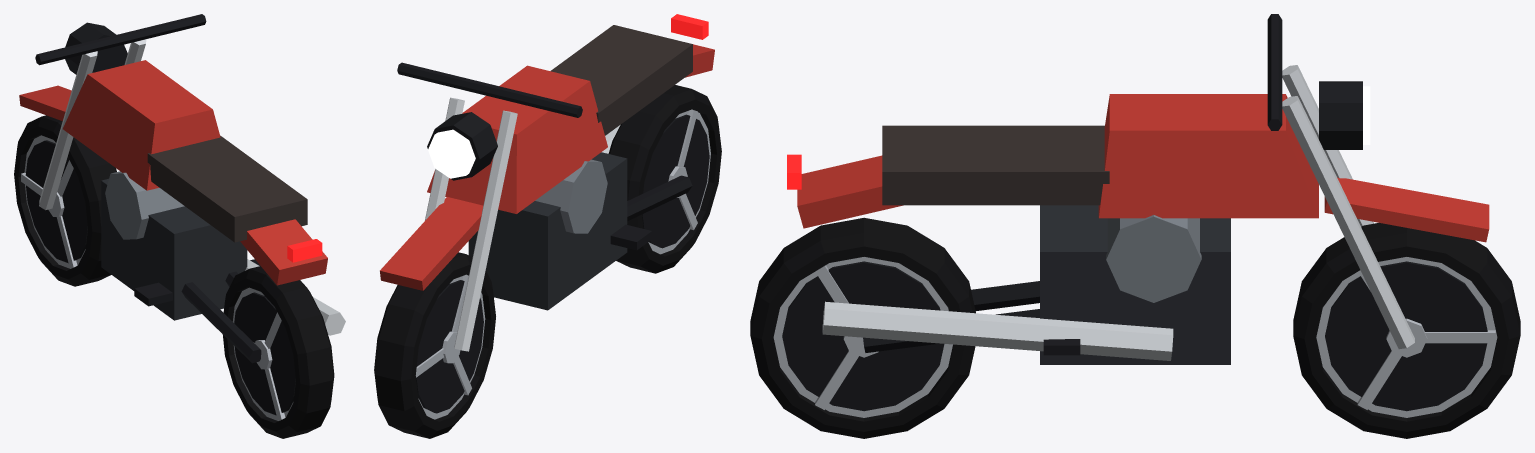
File: motorcycle.glb
3 views of the same model, side by side, from view 1: azimuth 30°, elevation 25°; view 2: azimuth 150°, elevation 25°; view 3: azimuth 270°, elevation 25° (orthographic). The views are drawn at different scales.
Parts seen in each view (by area): view 1: motorcycle_Body, motorcycle_Wheel_R, motorcycle_Wheel_F; view 2: motorcycle_Body, motorcycle_Wheel_F, motorcycle_Wheel_R; view 3: motorcycle_Body, motorcycle_Wheel_F, motorcycle_Wheel_R.
Boxes of the visible parts, box(x1,y1,x2,y2) form: motorcycle_Body: box(19, 14, 345, 363); motorcycle_Wheel_R: box(222, 266, 334, 438); motorcycle_Wheel_F: box(14, 115, 116, 286); motorcycle_Body: box(380, 14, 714, 351); motorcycle_Wheel_F: box(374, 252, 495, 438); motorcycle_Wheel_R: box(608, 85, 721, 273); motorcycle_Body: box(787, 14, 1489, 364); motorcycle_Wheel_F: box(1293, 223, 1520, 438); motorcycle_Wheel_R: box(750, 217, 975, 438).
Bounding box in the file's own units: 0.68 × 1.1 × 2.1.
